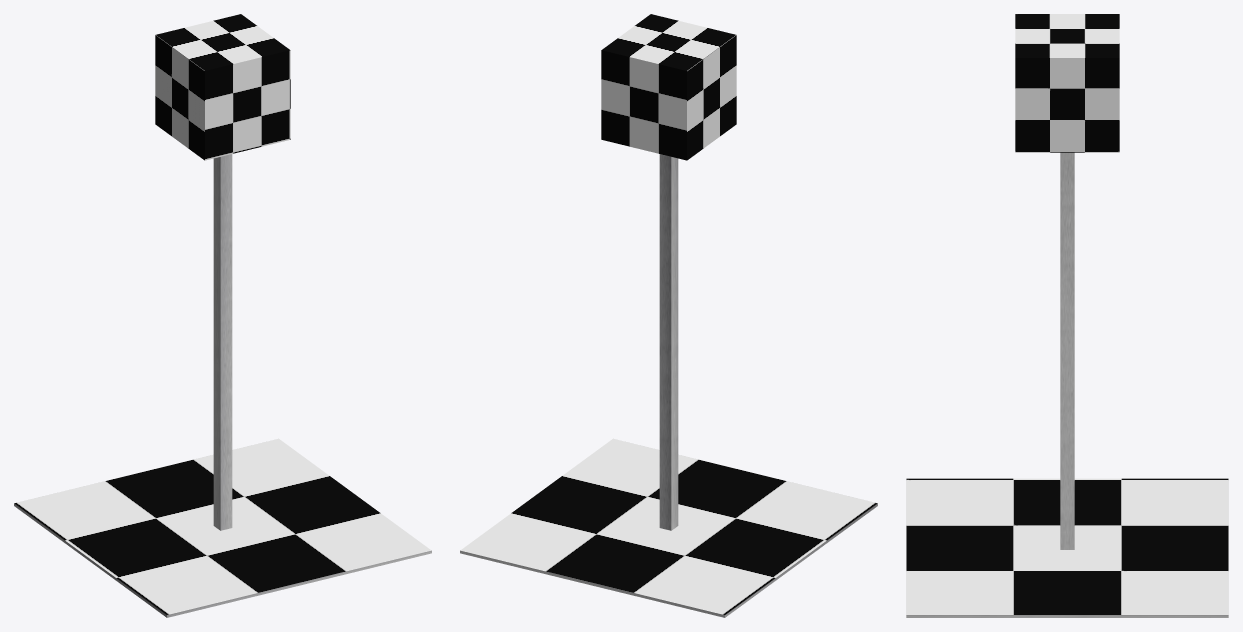
Rendered from goal.fbx.
3 renders of one model, left to right at view 1: azimuth 30°, elevation 25°; view 2: azimuth 150°, elevation 25°; view 3: azimuth 270°, elevation 25°, orthographic. The views are drawn at different scales.
Parts seen in each view (by area): view 1: Cube; view 2: Cube; view 3: Cube.
Part boxes in pixels (box(x1,y1,x2,y2)): Cube: box(14, 14, 431, 617); Cube: box(460, 14, 877, 617); Cube: box(906, 14, 1228, 617).
Size of the model in its own units: 200 by 352 by 200.
